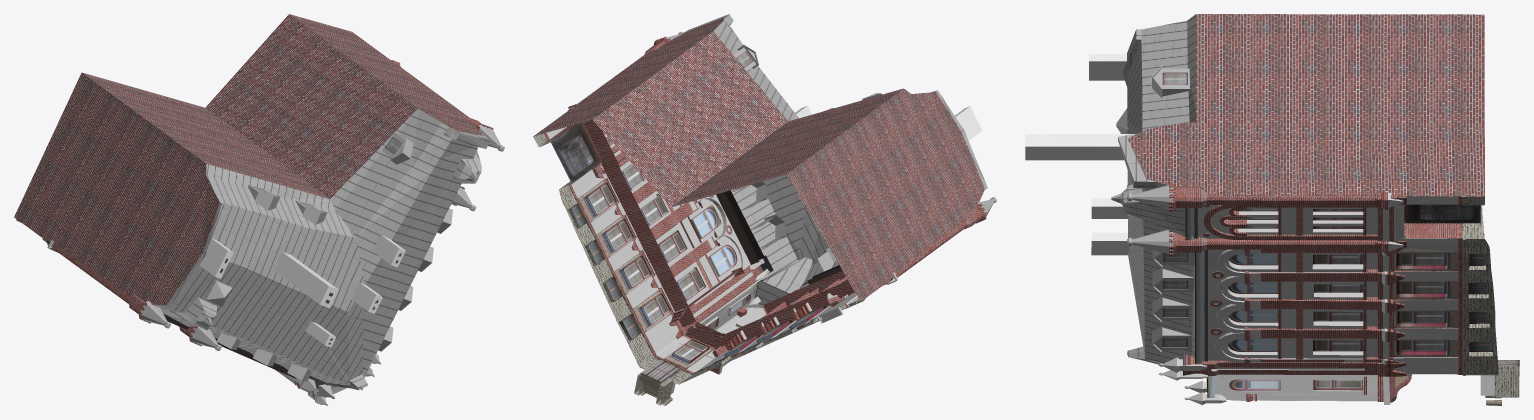
File: Sulevimagi_10.obj
3 views of the same model, side by side, from view 1: azimuth 30°, elevation 25°; view 2: azimuth 150°, elevation 25°; view 3: azimuth 270°, elevation 25° (orthographic). The views are drawn at different scales.
Visible parts, largest first — view 1: Sulevimagi_10; view 2: Sulevimagi_10; view 3: Sulevimagi_10.
Part boxes in pixels (left/top/right/bottom): Sulevimagi_10: left=14, top=14, right=504, bottom=405; Sulevimagi_10: left=533, top=14, right=996, bottom=405; Sulevimagi_10: left=1025, top=14, right=1519, bottom=405.
Bounding box in the file's own units: 20.7 × 15.6 × 21.63.
